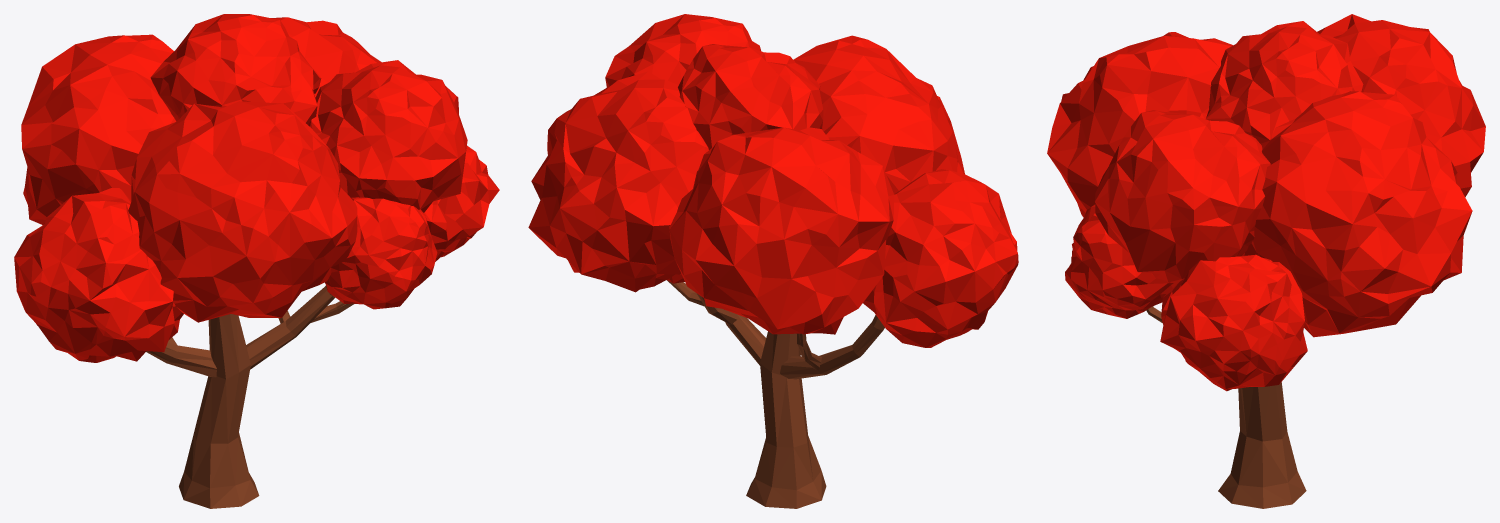
Rendered from burning-tree2.glb.
The picture shows the model from 3 angles, left to right: view 1: azimuth 30°, elevation 25°; view 2: azimuth 150°, elevation 25°; view 3: azimuth 270°, elevation 25°; orthographic projection. The views are drawn at different scales.
Visible parts, largest first — view 1: Tree.3; view 2: Tree.3; view 3: Tree.3.
Part boxes in pixels (x1,y1,x2,y2): Tree.3: [14, 14, 499, 508]; Tree.3: [528, 14, 1018, 508]; Tree.3: [1047, 14, 1485, 508].
Bounding box in the file's own units: 0.5727 × 0.5331 × 0.4464.
